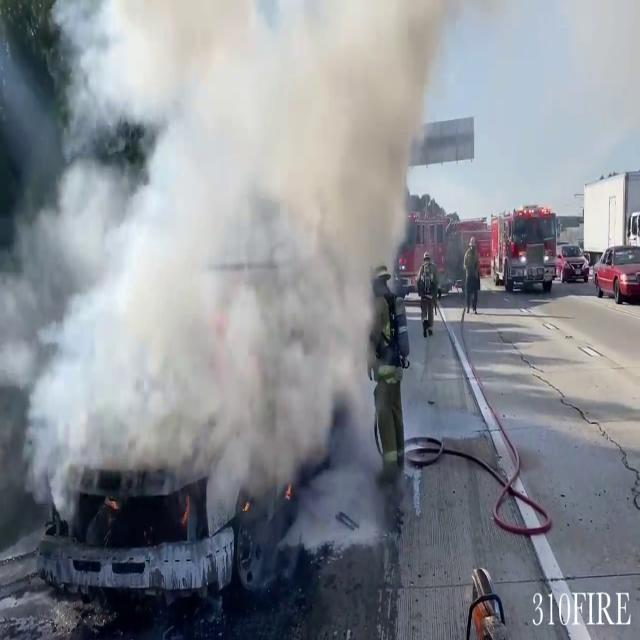Smoke: (1, 0, 444, 516)
